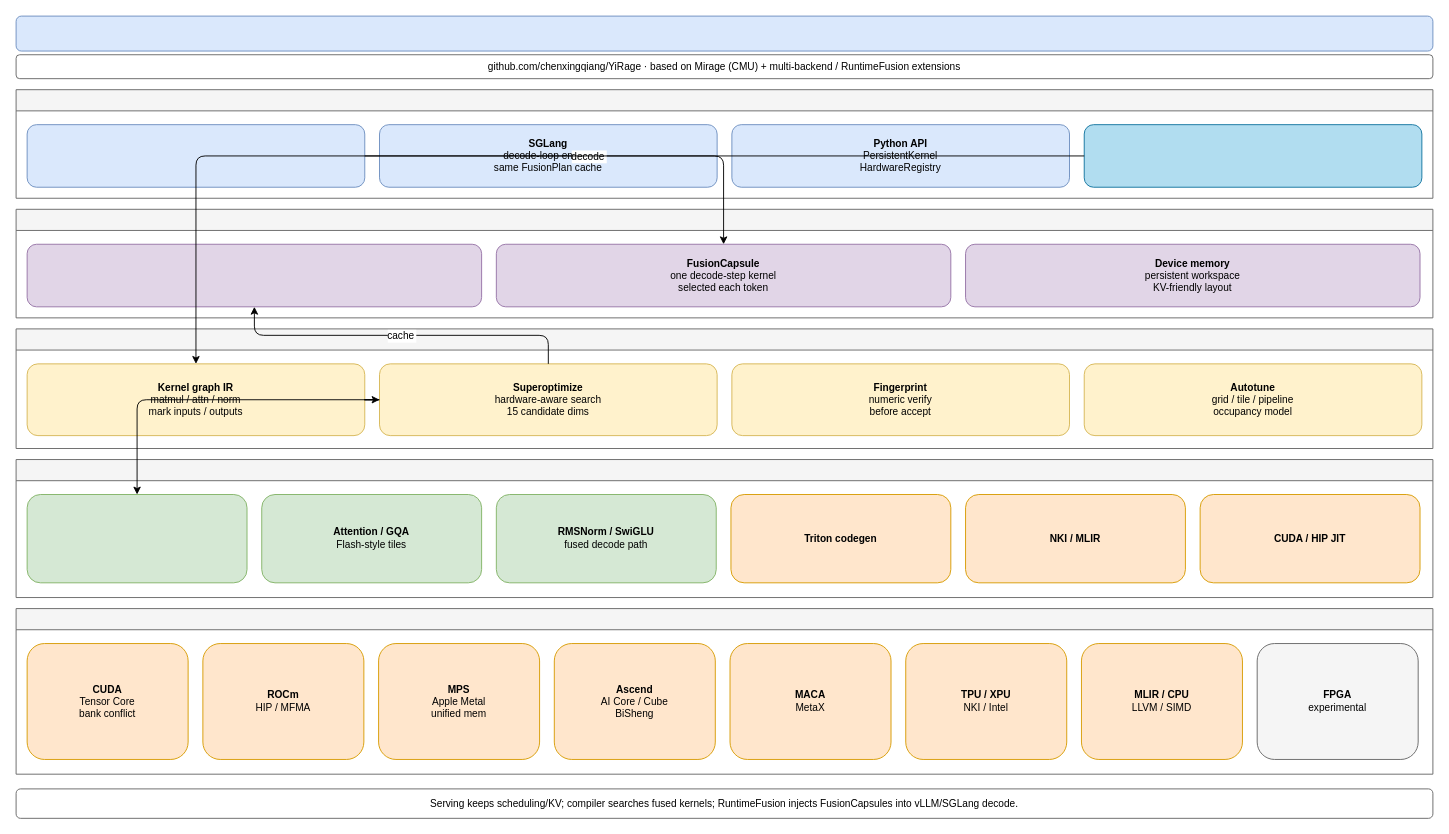
The diagram is 1449 pixels wide and 834 high, and some of its shapes have lost their labels. The box of each missing label's shape, as (x1, y1, x2, y2) in pixels:
1. Serving / embedding: (15, 89, 1433, 198)
2. RuntimeFusion: (15, 208, 1433, 318)
3. Compiler / search: (15, 328, 1433, 448)
4. Threadblock operators + transpilers: (15, 459, 1433, 598)
5. Backend registry (12 targets; factory + thread-safe singleton): (15, 608, 1433, 774)
FusionPlan cache search / profile results per backend + shape: (26, 243, 482, 307)
MatMul Tensor Core / Cube: (26, 494, 247, 583)
UnifiedCompiler graph + backend pick Cython CoreBridge: (1083, 124, 1422, 187)
vLLM keeps schedule + KV RF selects capsules: (26, 124, 365, 187)
YiRage (YPK) — Multi-backend LLM Megakernel Compiler & Runtime: (15, 15, 1433, 51)
